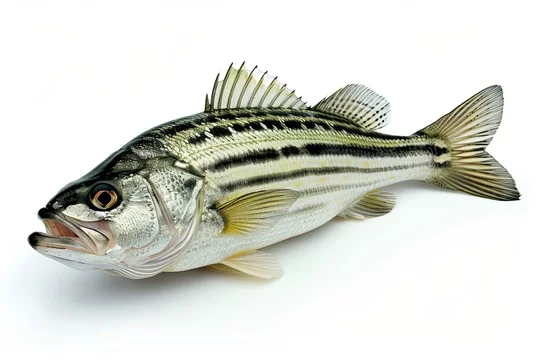Striped Bass: (16, 38, 538, 312)
